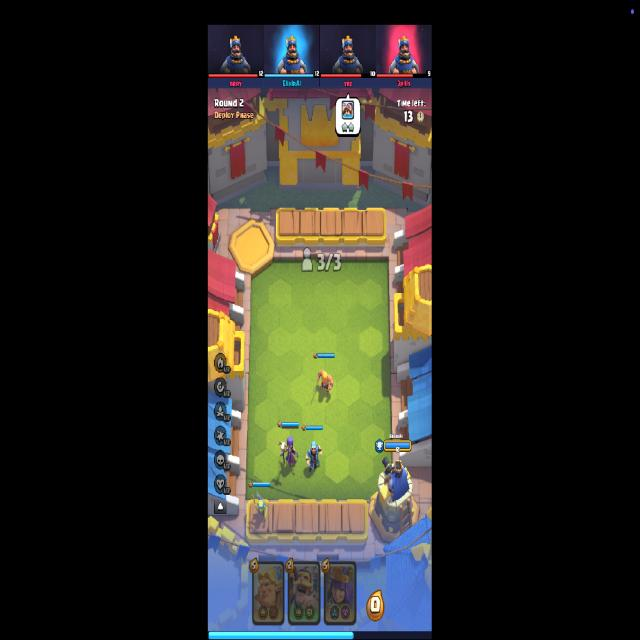barbarian: (312, 370, 333, 400)
card_archer_queen: (324, 560, 357, 626)
card_golden_knight: (252, 560, 284, 626)
card_knight: (288, 561, 321, 626)
spear_goblin: (252, 491, 268, 520)
witch: (278, 436, 298, 468)
wizard: (306, 441, 322, 473)
